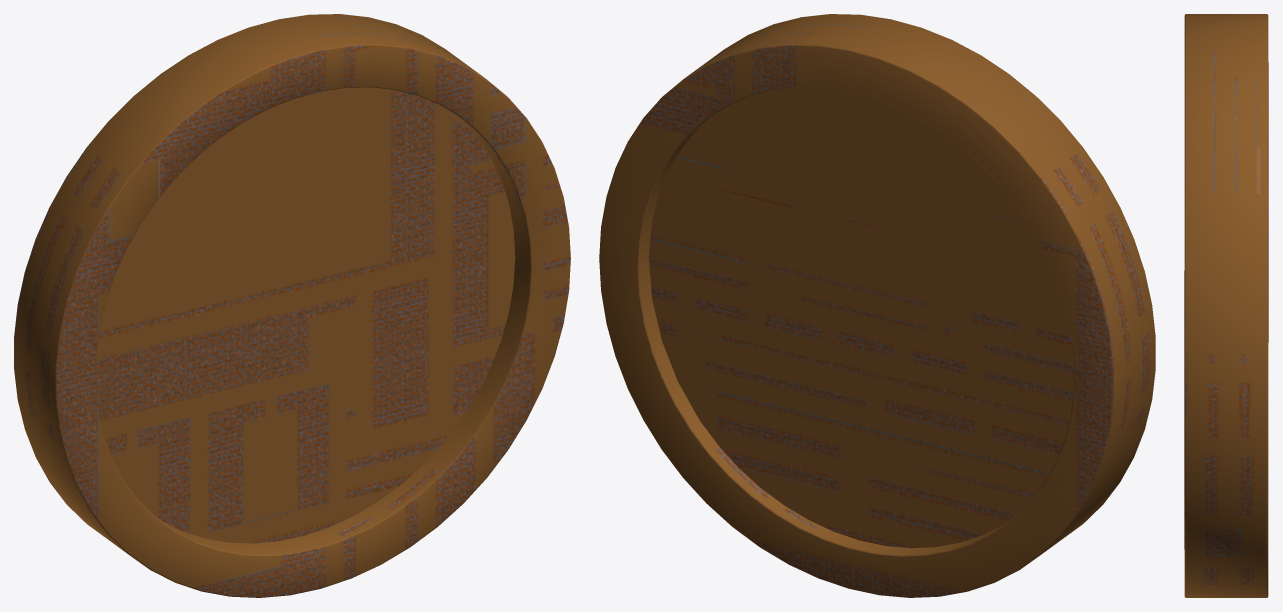
The model's file is COIN.dae.
3 renders of one model, left to right at view 1: azimuth 30°, elevation 25°; view 2: azimuth 150°, elevation 25°; view 3: azimuth 270°, elevation 25°, orthographic.
Parts seen in each view (by area): view 1: COIN; view 2: COIN; view 3: COIN.
Part boxes in pixels (x1,y1,x2,y2): COIN: [14, 14, 570, 597]; COIN: [599, 14, 1155, 597]; COIN: [1184, 14, 1268, 597].
Size of the model in its own units: 7954 by 7956 by 1145.
